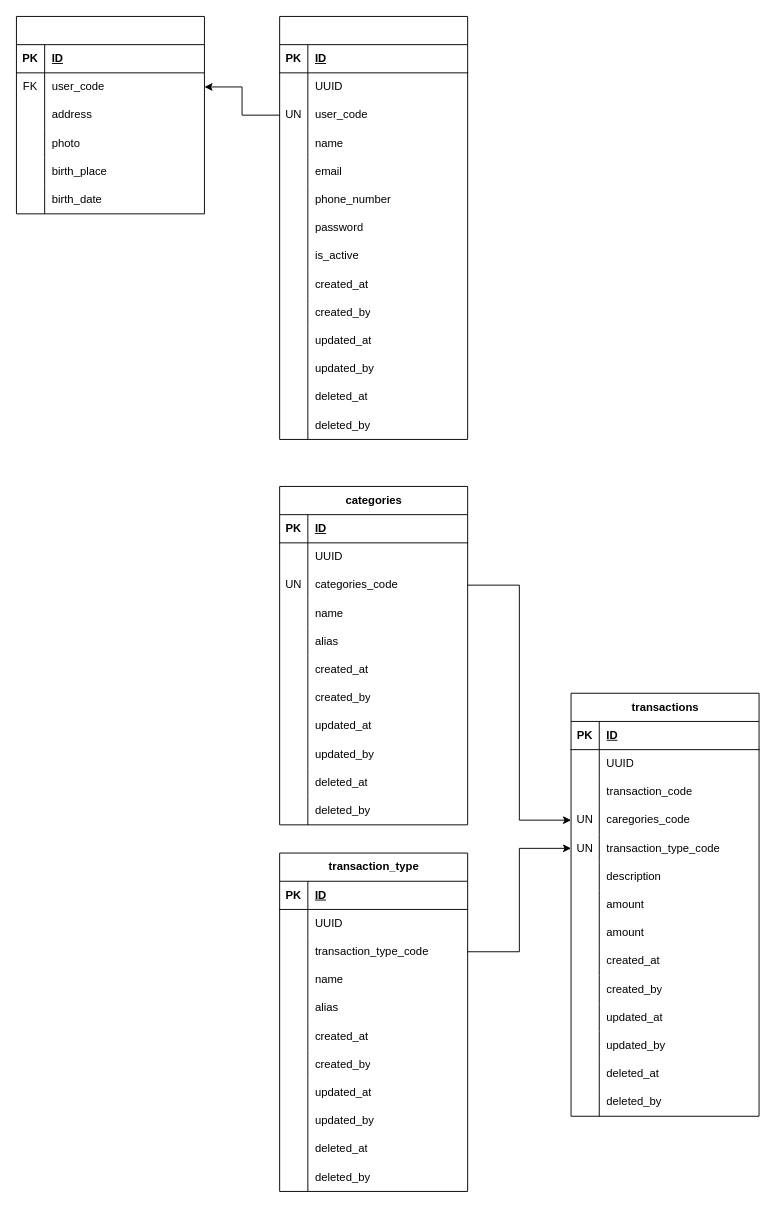
The diagram is 776 pixels wide and 1208 high, and some of its shapes have lost their labels. Each missing label, with the box of its shape:
user_profile: (16, 16, 204, 214)
users: (279, 16, 468, 439)
